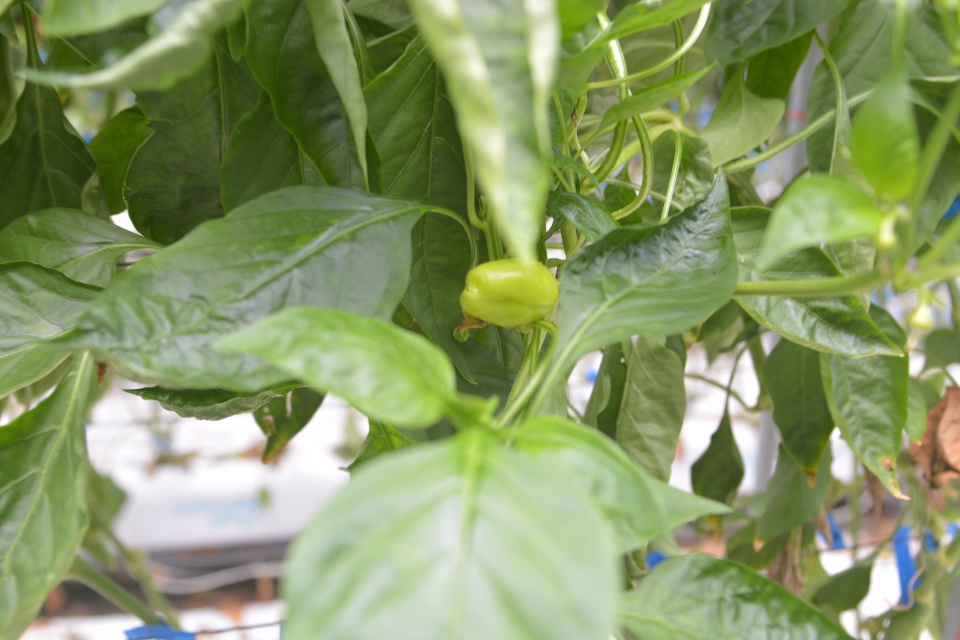immature: (456, 256, 562, 329)
